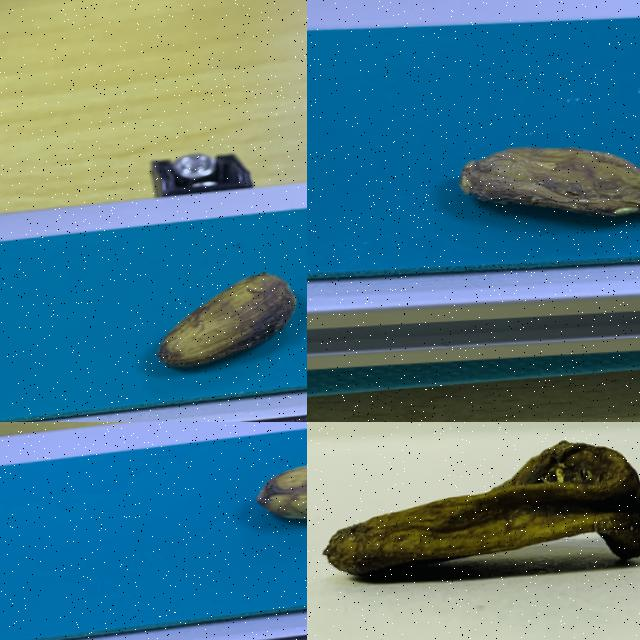Fine_cocoabeans: (85, 252, 306, 421), (179, 432, 306, 557)
Flat_cocoabeans: (307, 433, 639, 607), (385, 116, 639, 263)
